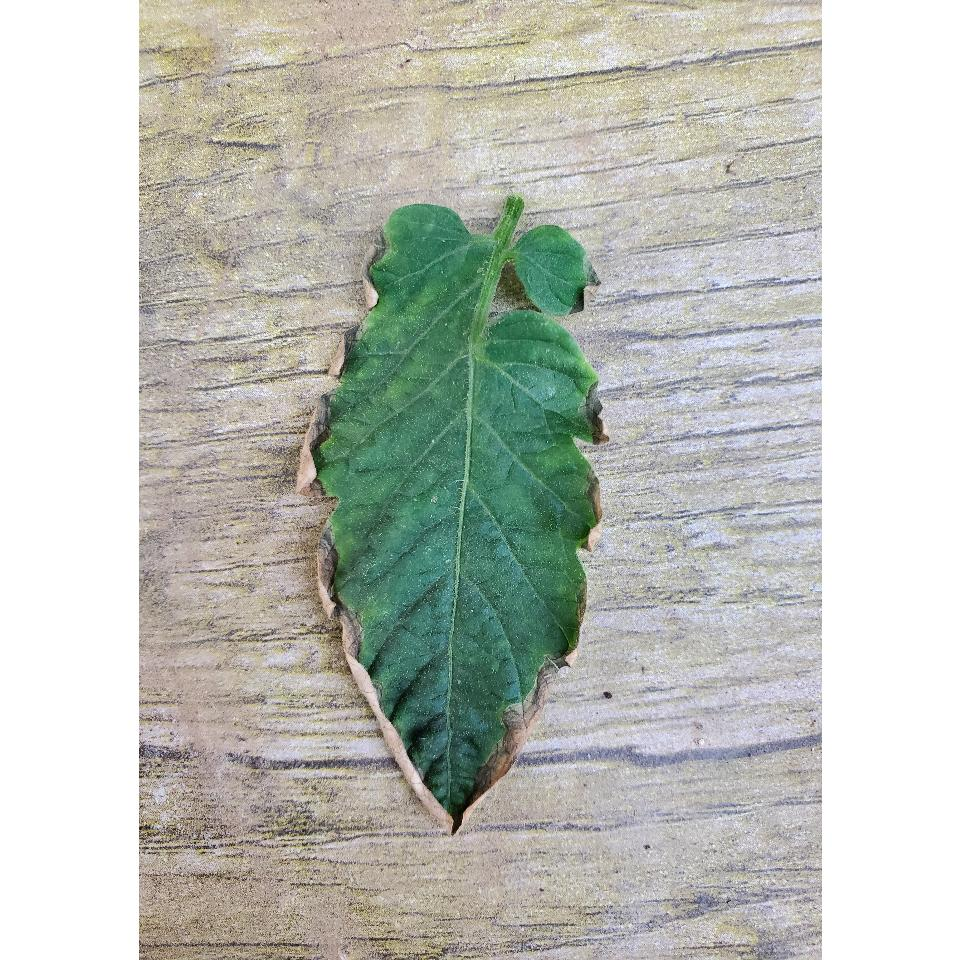tomato_bacterial_blight: (290, 164, 610, 840)
